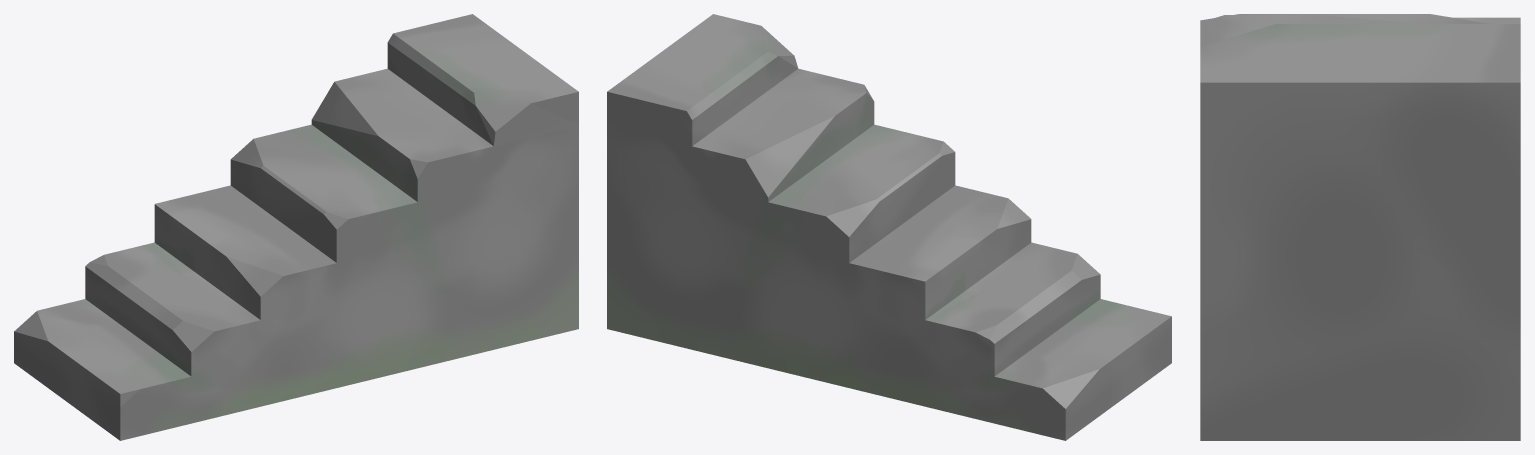
Rendered from Stairs.fbx.
3 renders of one model, left to right at view 1: azimuth 30°, elevation 25°; view 2: azimuth 150°, elevation 25°; view 3: azimuth 270°, elevation 25°, orthographic. The views are drawn at different scales.
Parts seen in each view (by area): view 1: Stairs; view 2: Stairs; view 3: Stairs.
Boxes of the visible parts, x1=… form: Stairs: x1=14, y1=14, x2=578, y2=440; Stairs: x1=607, y1=14, x2=1171, y2=440; Stairs: x1=1200, y1=14, x2=1520, y2=440.
Size of the model in its own units: 185 by 91.55 by 74.24.
